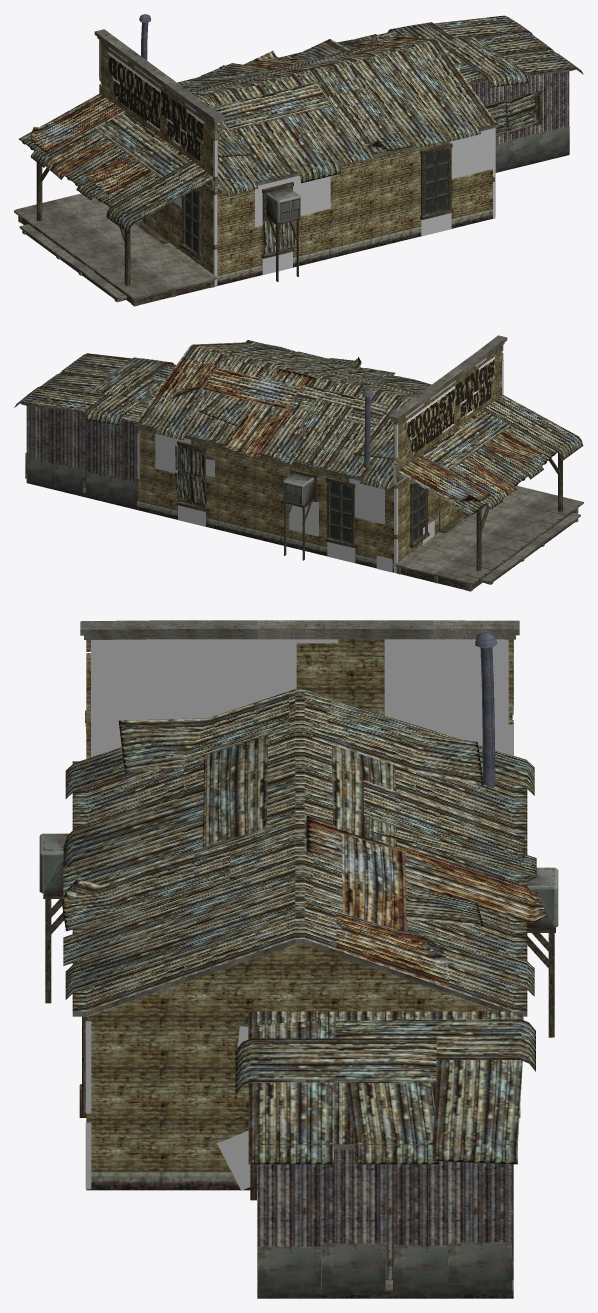
The model's file is GeneralStore.obj.
3 renders of one model, top to bottom at view 1: azimuth 30°, elevation 25°; view 2: azimuth 150°, elevation 25°; view 3: azimuth 270°, elevation 25°, orthographic. The views are drawn at different scales.
Visible parts, largest first — view 1: GeneralStore:__PrenotatoPerDuplicare_0, GeneralStore:__PrenotatoPerDuplicare_2, GeneralStore:__PrenotatoPerDuplicare_4, GeneralStore:__PrenotatoPerDuplicare_1, GeneralStore:__PrenotatoPerDuplicare_3; view 2: GeneralStore:__PrenotatoPerDuplicare_0, GeneralStore:__PrenotatoPerDuplicare_2, GeneralStore:__PrenotatoPerDuplicare_4, GeneralStore:__PrenotatoPerDuplicare_1, GeneralStore:__PrenotatoPerDuplicare_3; view 3: GeneralStore:__PrenotatoPerDuplicare_0, GeneralStore:__PrenotatoPerDuplicare_4, GeneralStore:__PrenotatoPerDuplicare_2.
Part boxes in pixels (x1,y1,x2,y2): GeneralStore:__PrenotatoPerDuplicare_0: [19, 14, 583, 304]; GeneralStore:__PrenotatoPerDuplicare_2: [14, 29, 575, 306]; GeneralStore:__PrenotatoPerDuplicare_4: [99, 41, 495, 285]; GeneralStore:__PrenotatoPerDuplicare_1: [108, 52, 203, 160]; GeneralStore:__PrenotatoPerDuplicare_3: [185, 96, 537, 252]; GeneralStore:__PrenotatoPerDuplicare_0: [14, 340, 583, 589]; GeneralStore:__PrenotatoPerDuplicare_2: [20, 335, 583, 591]; GeneralStore:__PrenotatoPerDuplicare_4: [137, 358, 503, 572]; GeneralStore:__PrenotatoPerDuplicare_1: [406, 356, 494, 455]; GeneralStore:__PrenotatoPerDuplicare_3: [181, 446, 424, 542]; GeneralStore:__PrenotatoPerDuplicare_0: [39, 632, 558, 1298]; GeneralStore:__PrenotatoPerDuplicare_4: [85, 639, 513, 1190]; GeneralStore:__PrenotatoPerDuplicare_2: [72, 620, 527, 1149].
Bounding box in the file's own units: 1611 × 561 × 777.
